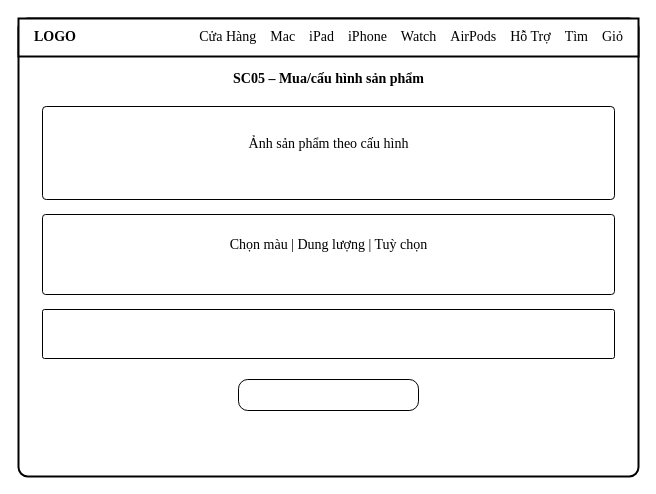
This 656x494 diagram has some shape labels left out. Each missing label, with the box of its shape:
Thêm vào giỏ hàng: (238, 378, 418, 410)
Trade In: nhập thiết bị cũ → giá ước tính: (42, 308, 614, 358)
